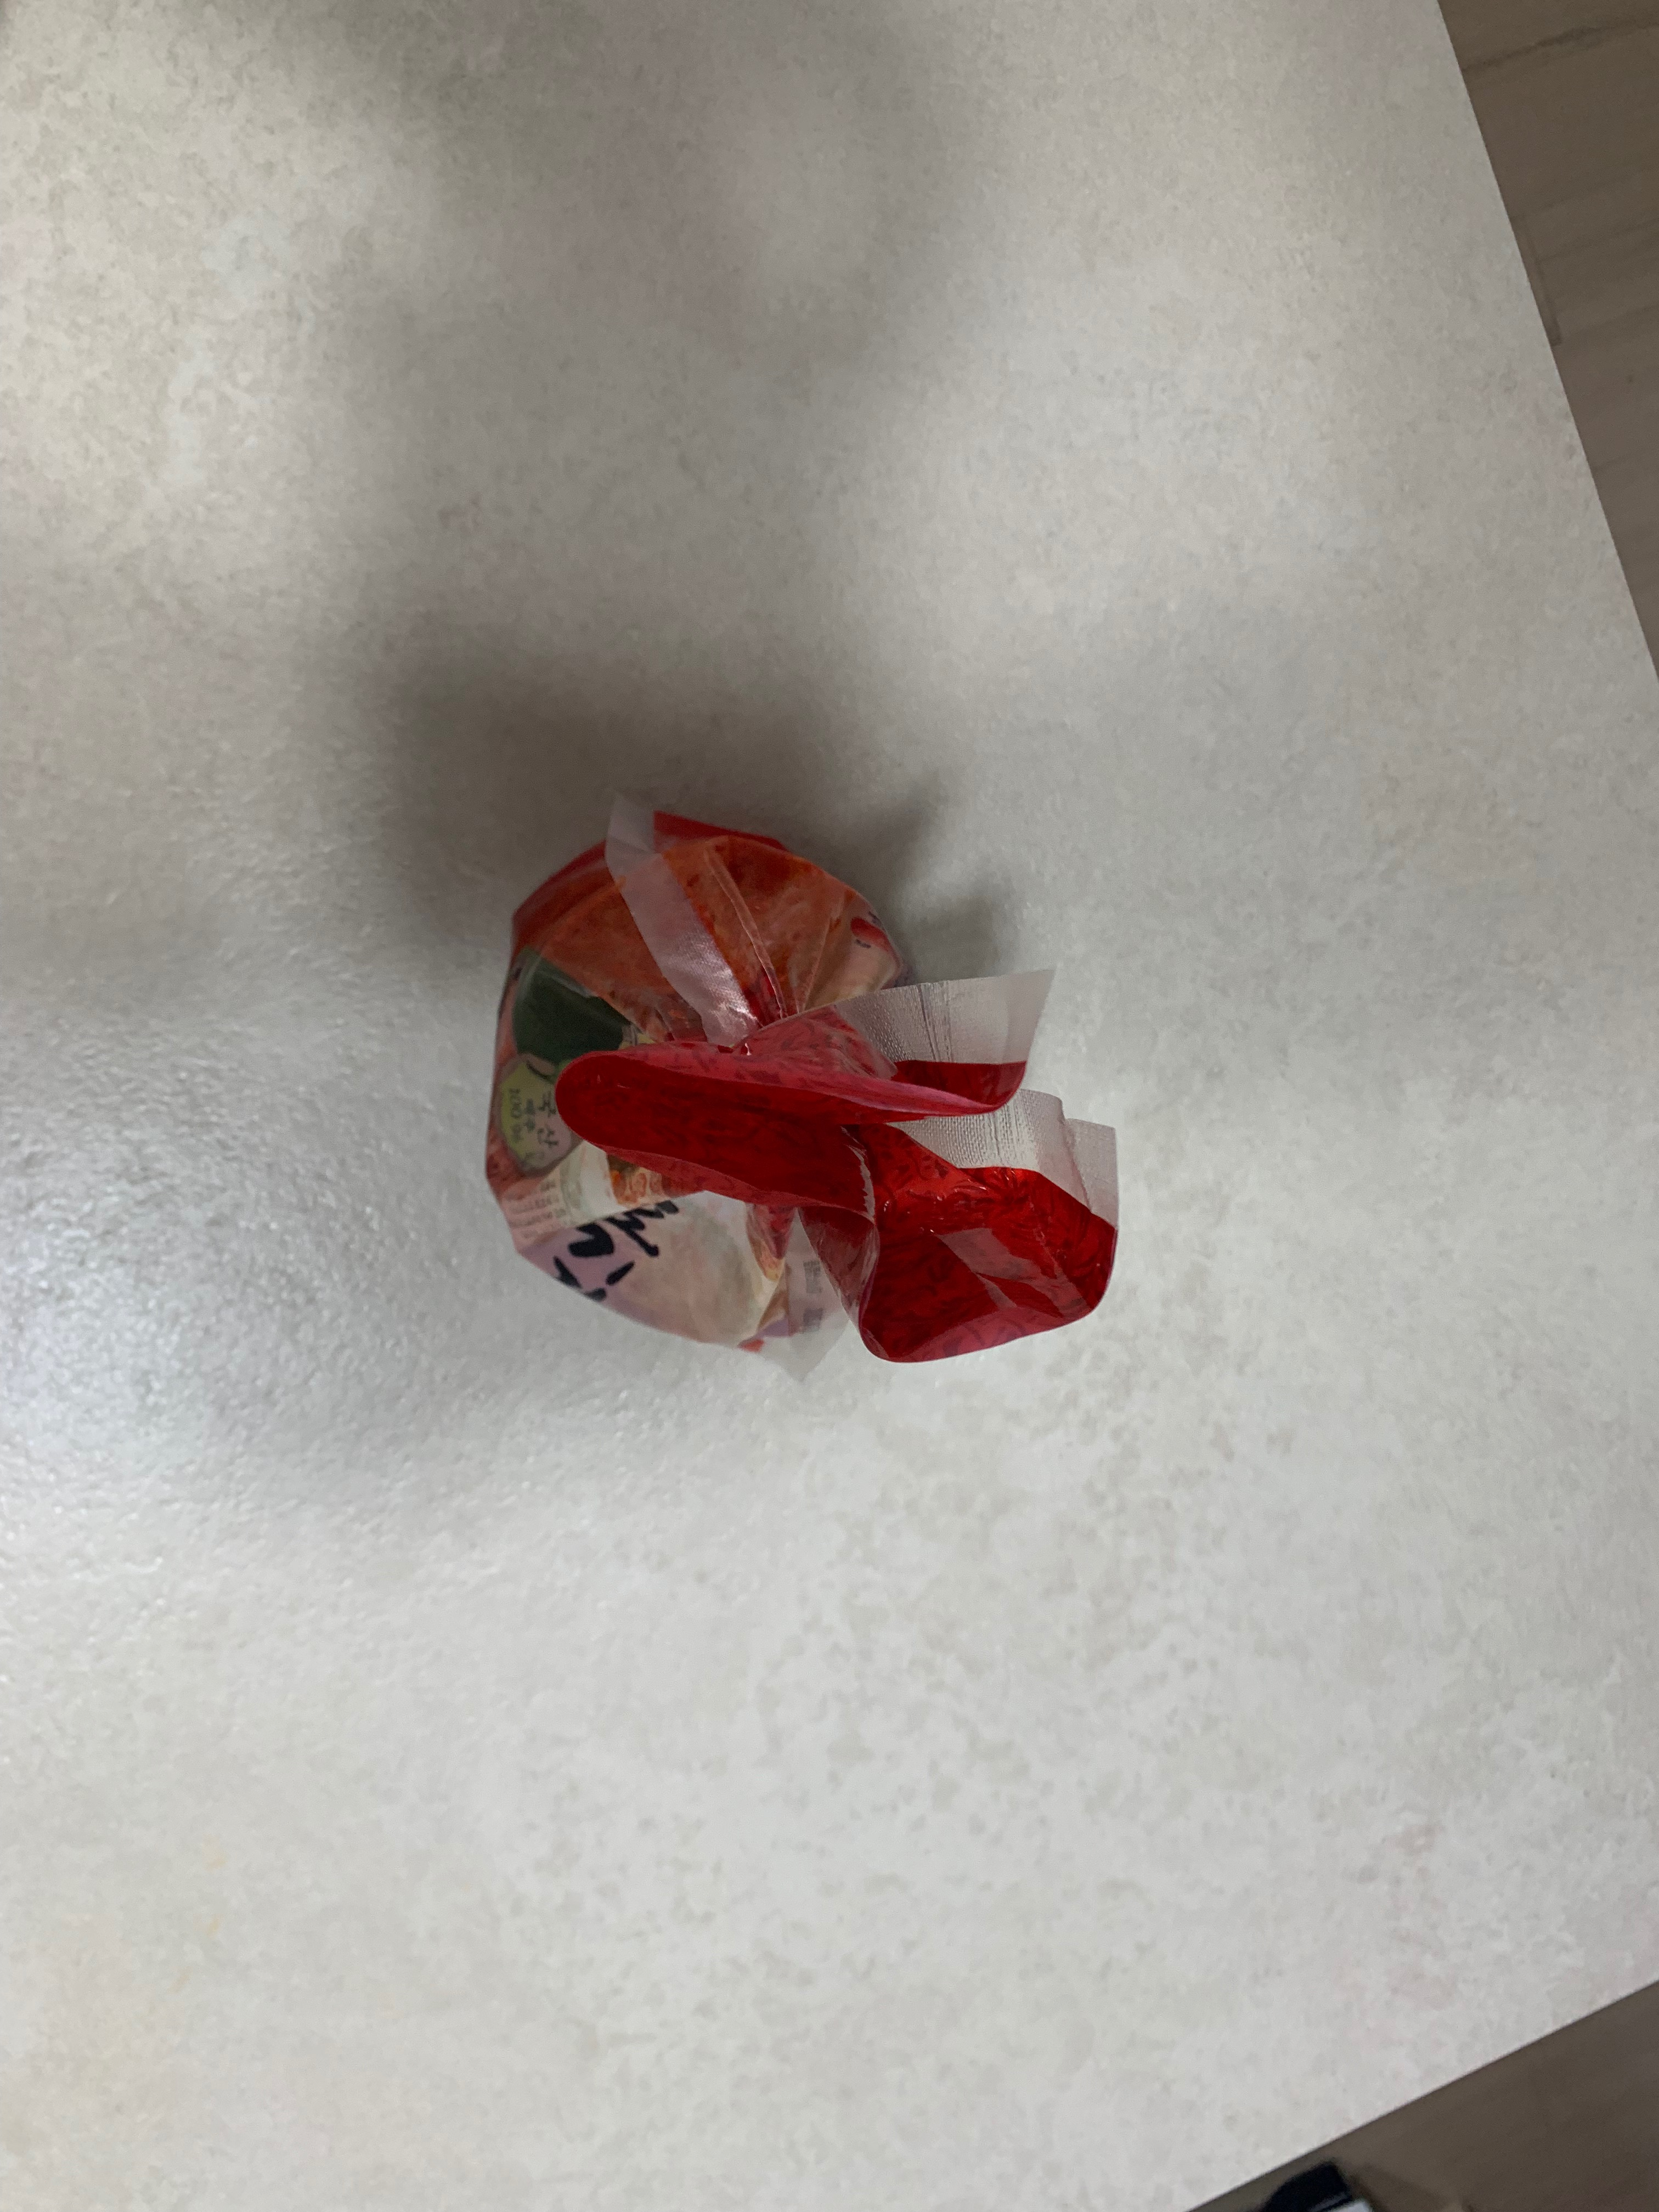kimchi: (490, 815, 1126, 1364)
